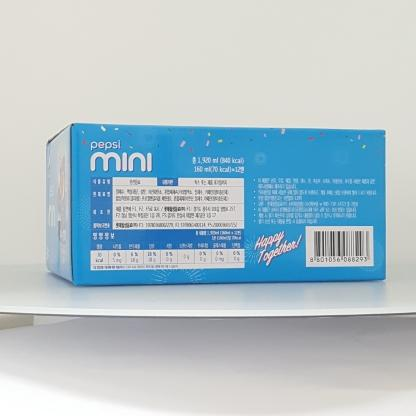-----160ML: (46, 123, 386, 287)
